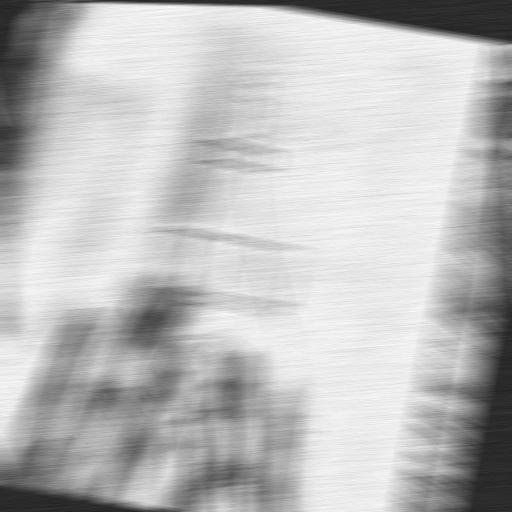eiffel-tower: (40, 22, 403, 464)
